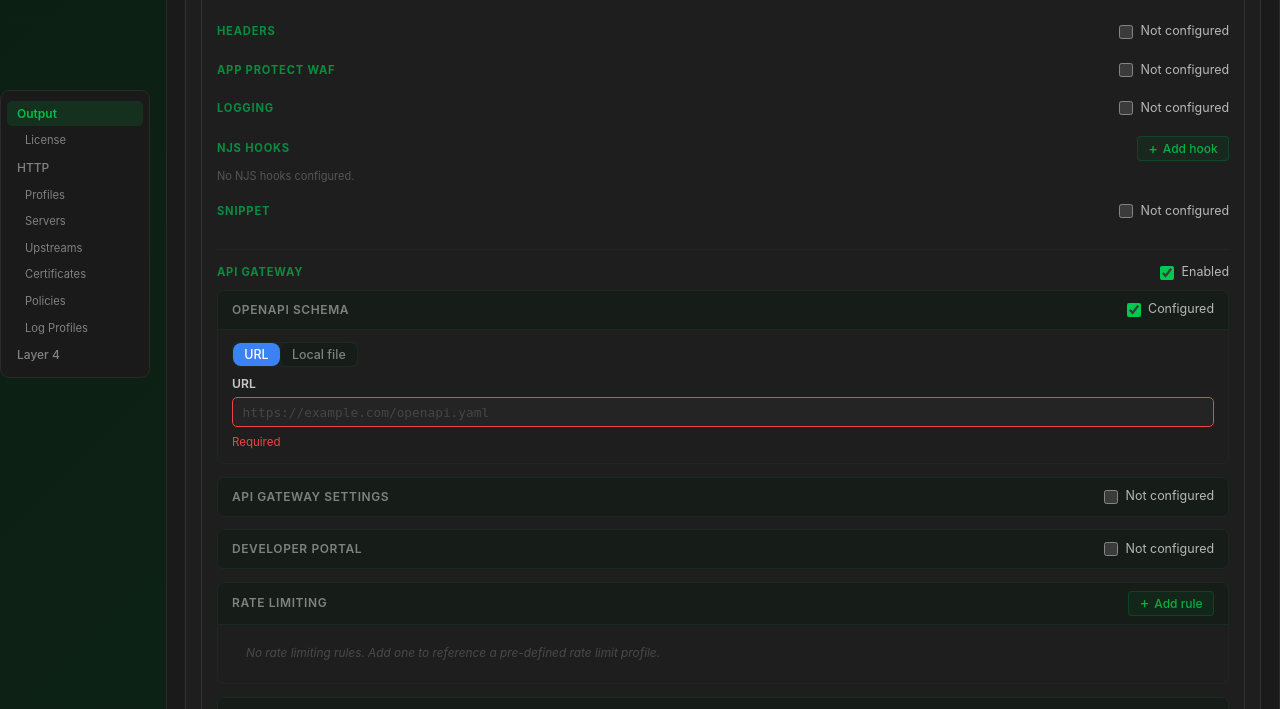
it: ConfigForm — API Gateway: OpenAPI Schema › Local file mode › shows a file input after switching to Local file mode
(page scrolled)
Step 1. Click the button "Local file" → (318, 354), box top-left (280, 343), bottom-right (357, 366)
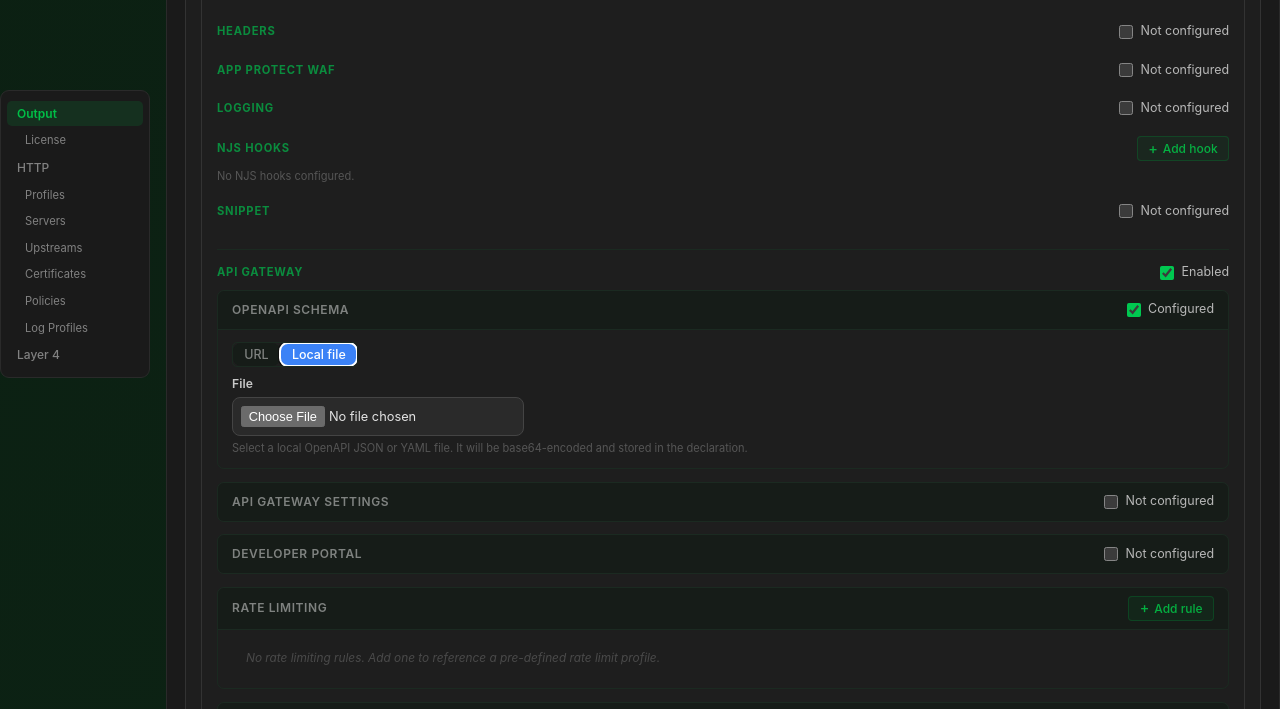
expect the file field is shown: met, box top-left (232, 397), bottom-right (524, 436)
